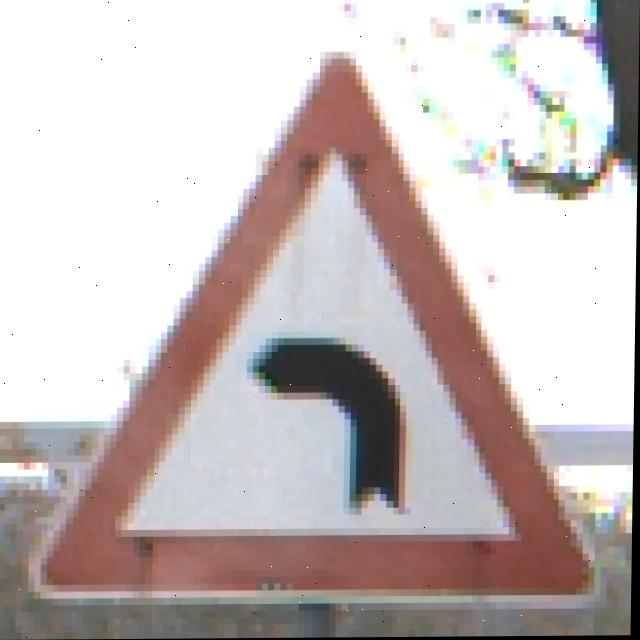left_turn: (79, 94, 570, 613)
